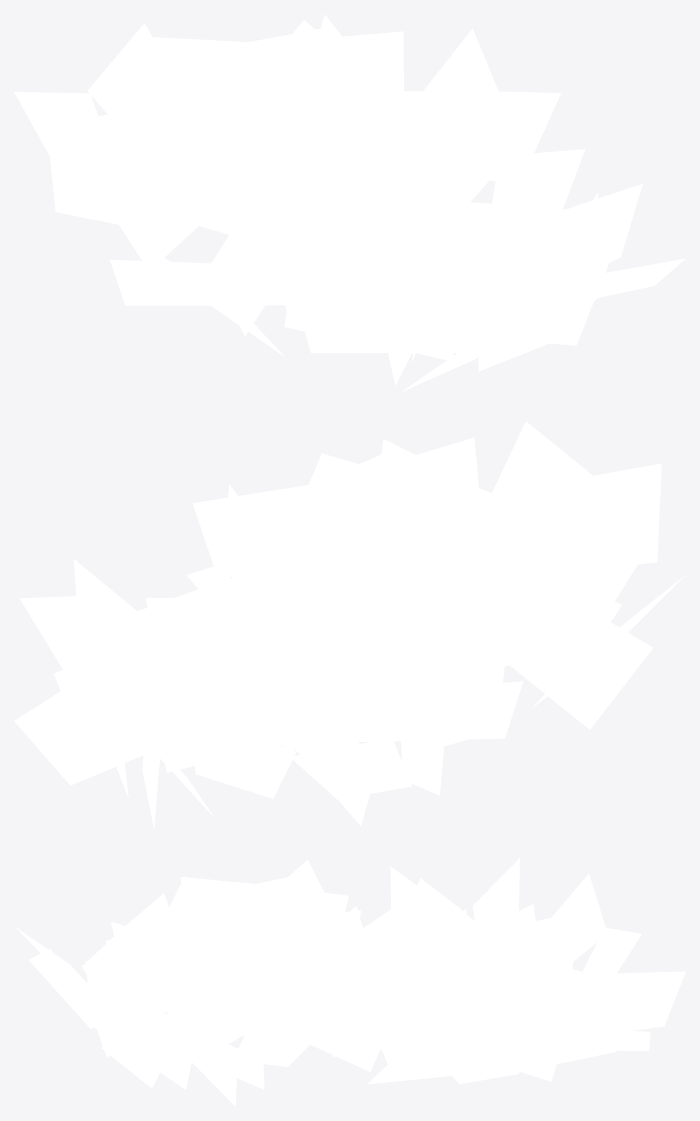
3 renders of one model, top to bottom at view 1: azimuth 30°, elevation 25°; view 2: azimuth 150°, elevation 25°; view 3: azimuth 270°, elevation 25°, orthographic. The views are drawn at different scales.
Visible parts, largest first — view 1: SM_BM_Water_Lettuce_05_LOD0; view 2: SM_BM_Water_Lettuce_05_LOD0; view 3: SM_BM_Water_Lettuce_05_LOD0.
Part boxes in pixels (x1,y1,x2,y2): SM_BM_Water_Lettuce_05_LOD0: (14, 14, 685, 392); SM_BM_Water_Lettuce_05_LOD0: (14, 421, 683, 828); SM_BM_Water_Lettuce_05_LOD0: (15, 858, 685, 1106).
Size of the model in its own units: 1.23 by 0.3091 by 1.75.
